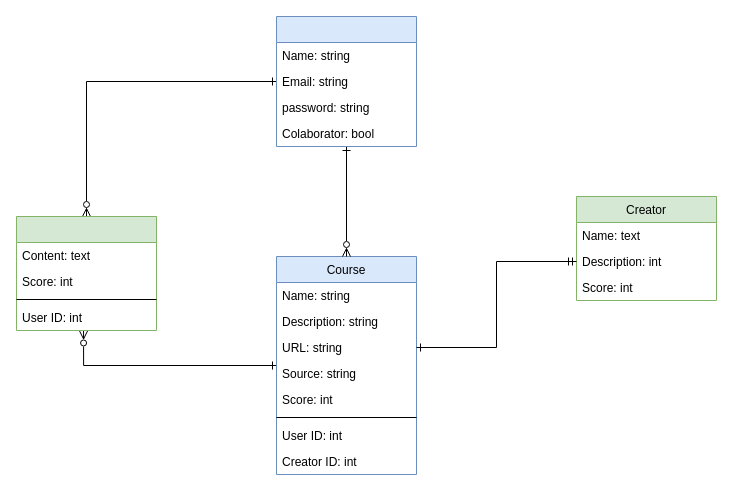
The diagram is 733 pixels wide and 491 high, and some of its shapes have lost their labels. Here are the shapes that lost their labels. From the top down, the box of each, then its label:
(276, 16, 416, 146): User
(16, 216, 156, 330): Review
